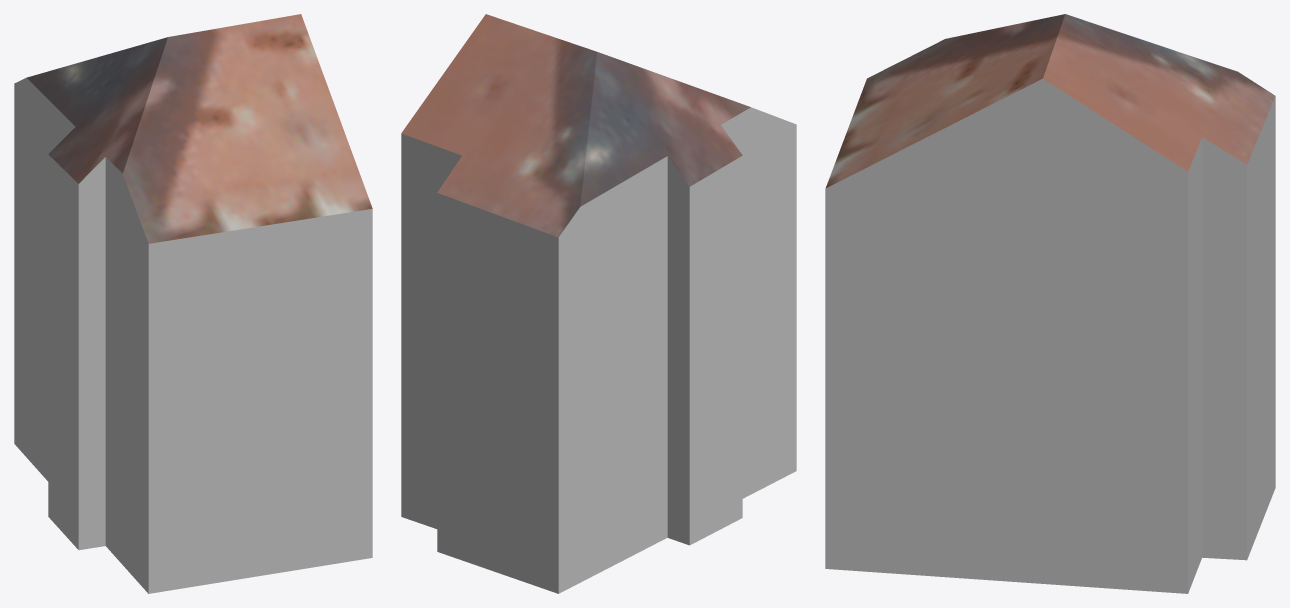
File: DEBW_0010007TxaK.gltf
3 views of the same model, side by side, from view 1: azimuth 30°, elevation 25°; view 2: azimuth 150°, elevation 25°; view 3: azimuth 270°, elevation 25° (orthographic). The views are drawn at different scales.
Parts seen in each view (by area): view 1: Z_UP; view 2: Z_UP; view 3: Z_UP.
Part boxes in pixels (x1=…): Z_UP: x1=14, y1=14, x2=372, y2=593; Z_UP: x1=401, y1=14, x2=796, y2=593; Z_UP: x1=825, y1=14, x2=1275, y2=593.
Size of the model in its own units: 11.19 by 19.08 by 15.4.
2 materials, 1 textured.
